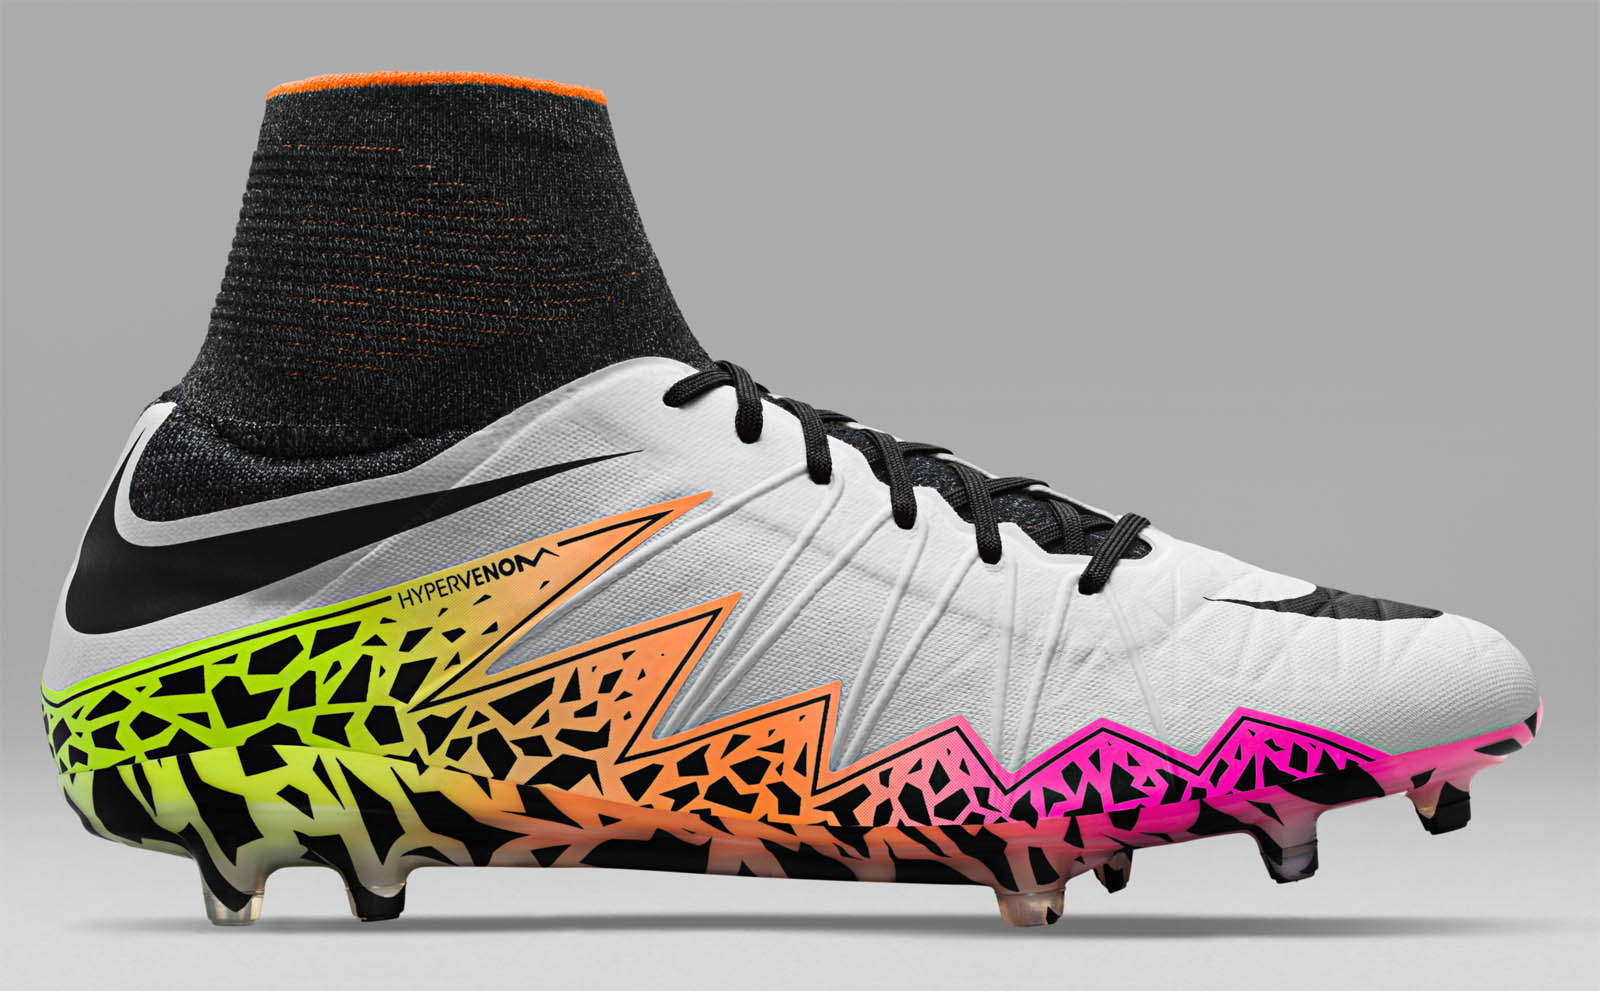football boots: (37, 70, 1539, 930)
